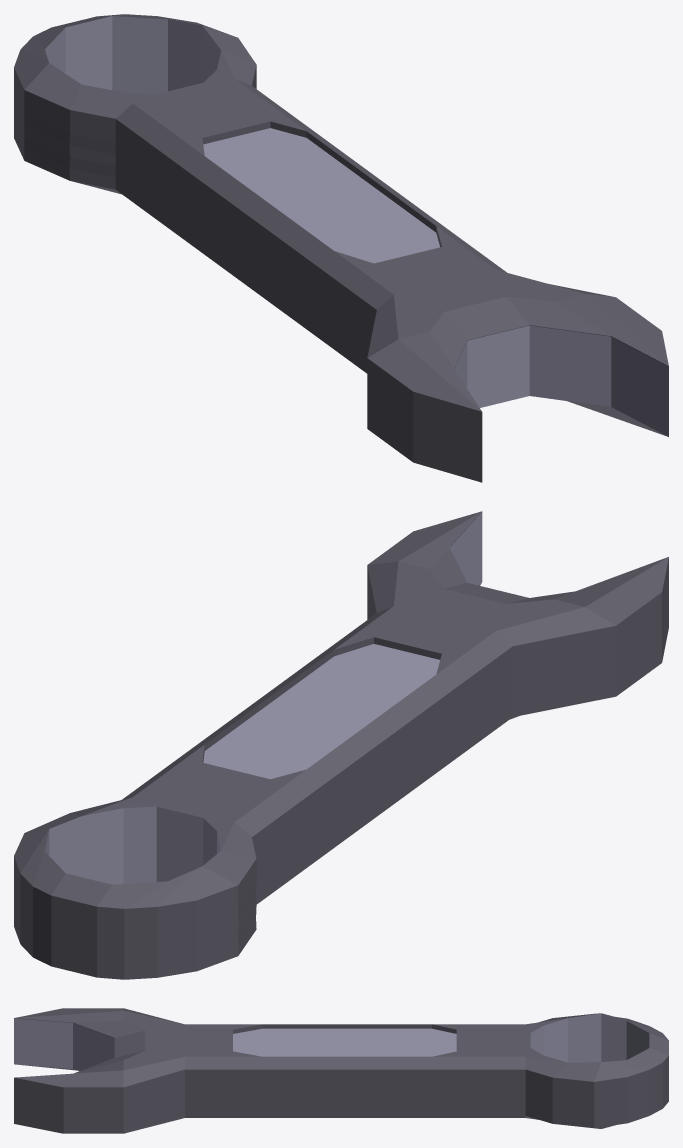
The model's file is Wrench_Onai.glb.
The picture shows the model from 3 angles, top to bottom: view 1: azimuth 30°, elevation 25°; view 2: azimuth 150°, elevation 25°; view 3: azimuth 270°, elevation 25°; orthographic projection. The views are drawn at different scales.
Visible parts, largest first — view 1: Cube; view 2: Cube; view 3: Cube.
Part boxes in pixels (left/top/right/bottom): Cube: left=14, top=14, right=668, bottom=482; Cube: left=14, top=511, right=668, bottom=979; Cube: left=14, top=1008, right=668, bottom=1133.
Size of the model in its own units: 1.09 by 0.4291 by 3.8.
2 materials, 2 textured.
